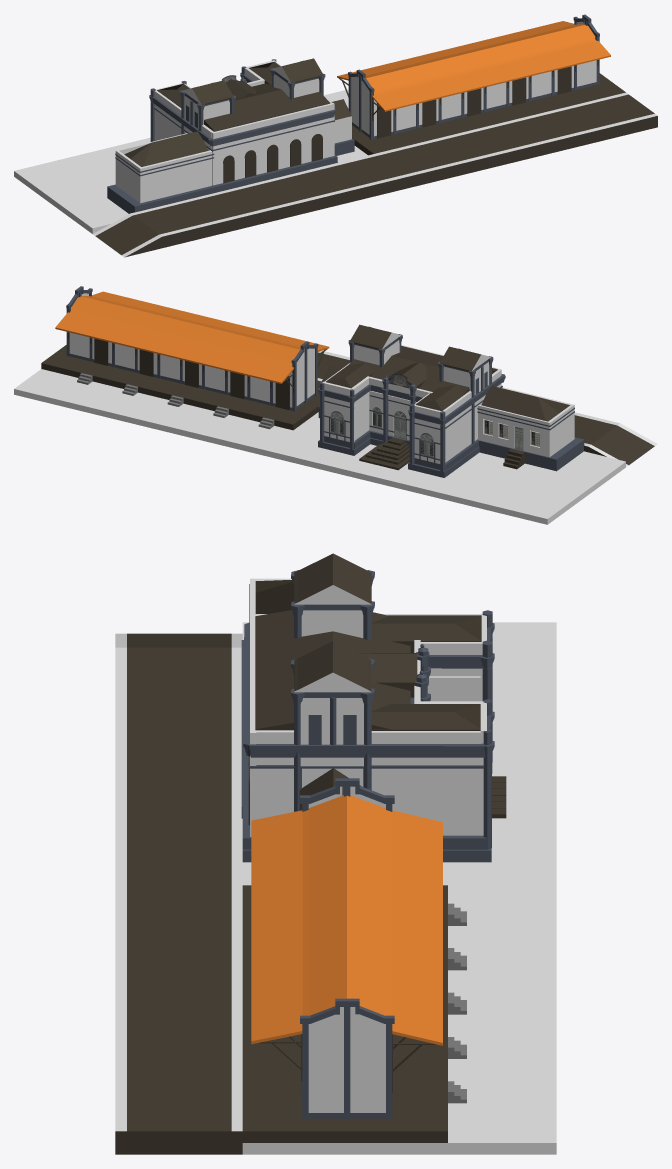
File: museu_feb.glb
3 views of the same model, one above another, from view 1: azimuth 30°, elevation 25°; view 2: azimuth 150°, elevation 25°; view 3: azimuth 270°, elevation 25° (orthographic). The views are drawn at different scales.
Parts seen in each view (by area): view 1: Cube.115, Cube, Cube.109, Cube.009, Cube.089, Cube.001, Cube.076, Cube.061, Cylinder.051, Cube.005, Cube.003, Cube.097 (+7 smaller); view 2: Cube.109, Cube, Cube.001, Cube.115, Cube.009, Cube.004, Cube.060, Cube.076, Cube.005, Cube.003, Cube.097, Cube.008 (+14 smaller); view 3: Cube.115, Cube, Cube.109, Cube.001, Cube.035, Cube.076, Cube.003, Cube.005, Cylinder.022, Cube.075, Cube.067, Cube.116 (+7 smaller).
Boxes of the visible parts, x1,y1,x2,y2 form: Cube.115: (93, 92, 657, 257); Cube: (337, 21, 610, 138); Cube.109: (14, 89, 367, 233); Cube.009: (116, 131, 211, 203); Cube.089: (211, 102, 334, 185); Cube.001: (352, 73, 625, 155); Cube.076: (204, 83, 330, 131); Cube.061: (377, 66, 571, 138); Cylinder.051: (223, 134, 322, 183); Cube.005: (182, 80, 233, 132); Cube.003: (272, 58, 323, 97); Cube.097: (107, 184, 217, 213); Cube.109: (14, 369, 625, 524); Cube: (55, 291, 329, 410); Cube.001: (41, 345, 321, 430); Cube.115: (317, 350, 657, 466); Cube.009: (481, 386, 574, 456); Cube.004: (478, 405, 550, 457); Cube.060: (94, 338, 289, 410); Cube.076: (348, 346, 497, 393); Cube.005: (439, 346, 490, 405); Cube.003: (350, 324, 401, 365); Cube.097: (479, 437, 584, 471); Cube.008: (445, 402, 482, 462); Cube.115: (115, 633, 242, 1154); Cube: (251, 786, 442, 1118); Cube.109: (242, 622, 556, 1154); Cube.001: (242, 885, 447, 1142); Cube.035: (256, 768, 483, 835); Cube.076: (255, 610, 410, 730); Cube.003: (294, 641, 371, 766); Cube.005: (294, 553, 371, 637); Cylinder.022: (244, 740, 485, 757); Cube.075: (371, 615, 481, 652); Cube.067: (371, 704, 480, 730); Cube.116: (448, 903, 466, 1103).
Size of the model in its own units: 96.72 by 17.28 by 34.67.
11 materials, 6 textured.
